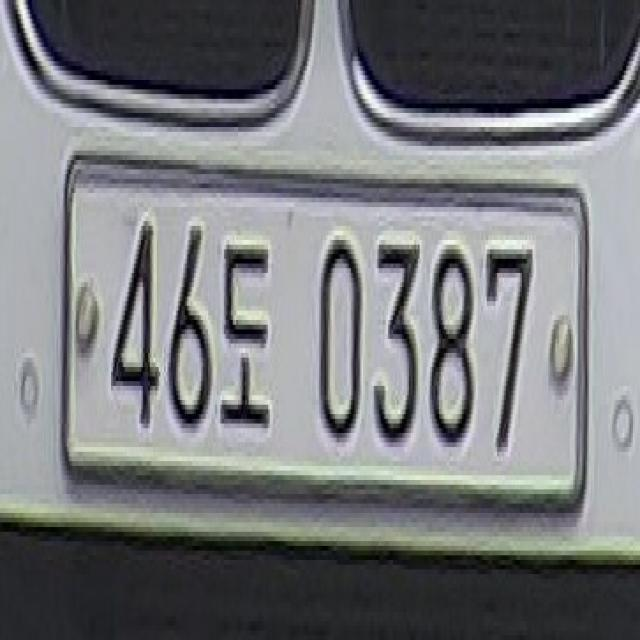0: (298, 218, 373, 460)
3: (378, 219, 426, 456)
4: (104, 212, 165, 444)
6: (168, 215, 216, 438)
7: (482, 232, 542, 464)
8: (426, 237, 478, 449)
do: (218, 224, 277, 452)
license_plate: (59, 152, 580, 502)
